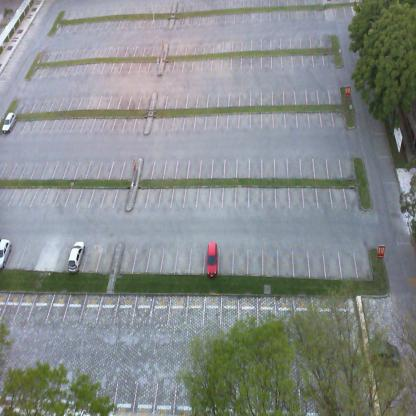car: (369, 336, 399, 367), (68, 240, 87, 274), (203, 241, 218, 278), (1, 109, 17, 135), (0, 236, 11, 271)
